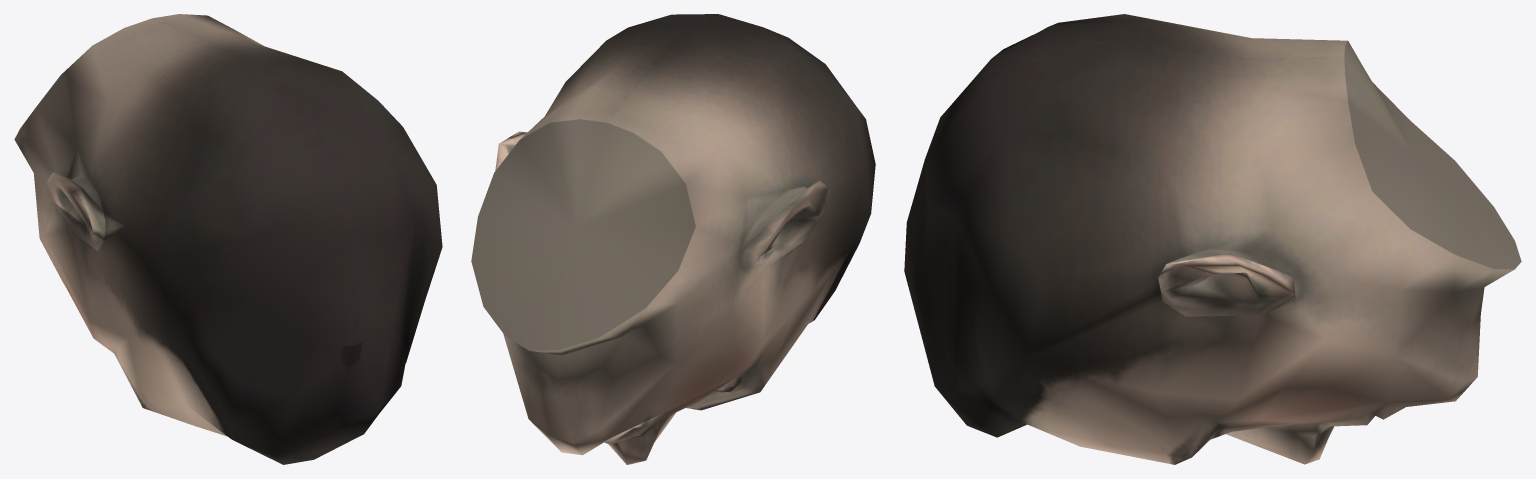
File: dest_nt_nuked_male_03_head_LOD2.obj
3 views of the same model, side by side, from view 1: azimuth 30°, elevation 25°; view 2: azimuth 150°, elevation 25°; view 3: azimuth 270°, elevation 25° (orthographic). The views are drawn at different scales.
Visible parts, largest first — view 1: mtl_nt_2020_manne_male01_head1; view 2: mtl_nt_2020_manne_male01_head1; view 3: mtl_nt_2020_manne_male01_head1.
Boxes of the visible parts, box(x1,y1,x2,y2) form: mtl_nt_2020_manne_male01_head1: box(14, 14, 442, 464); mtl_nt_2020_manne_male01_head1: box(471, 14, 875, 464); mtl_nt_2020_manne_male01_head1: box(904, 14, 1521, 464).
Bounding box in the file's own units: 19.21 × 22.59 × 28.8.
